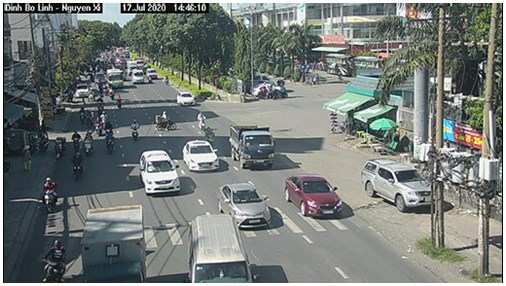di_bo: (22, 142, 35, 172)
xe_buyt: (104, 67, 125, 90)
xe_hoi: (359, 159, 440, 214), (218, 181, 271, 232), (286, 176, 344, 219), (137, 149, 184, 197), (182, 138, 219, 173), (178, 91, 195, 107), (74, 83, 91, 98)
xe_khach: (186, 215, 256, 284), (132, 67, 145, 85)
xe_may: (40, 241, 66, 282), (155, 108, 180, 134), (40, 177, 57, 214), (70, 150, 85, 183), (83, 130, 97, 158), (67, 129, 82, 155), (103, 131, 117, 155), (203, 124, 215, 148), (196, 108, 207, 132), (84, 106, 94, 129), (129, 120, 140, 140), (96, 94, 105, 114), (78, 101, 85, 125), (114, 93, 123, 106)
xe_tai: (83, 206, 156, 283), (228, 126, 276, 170)
